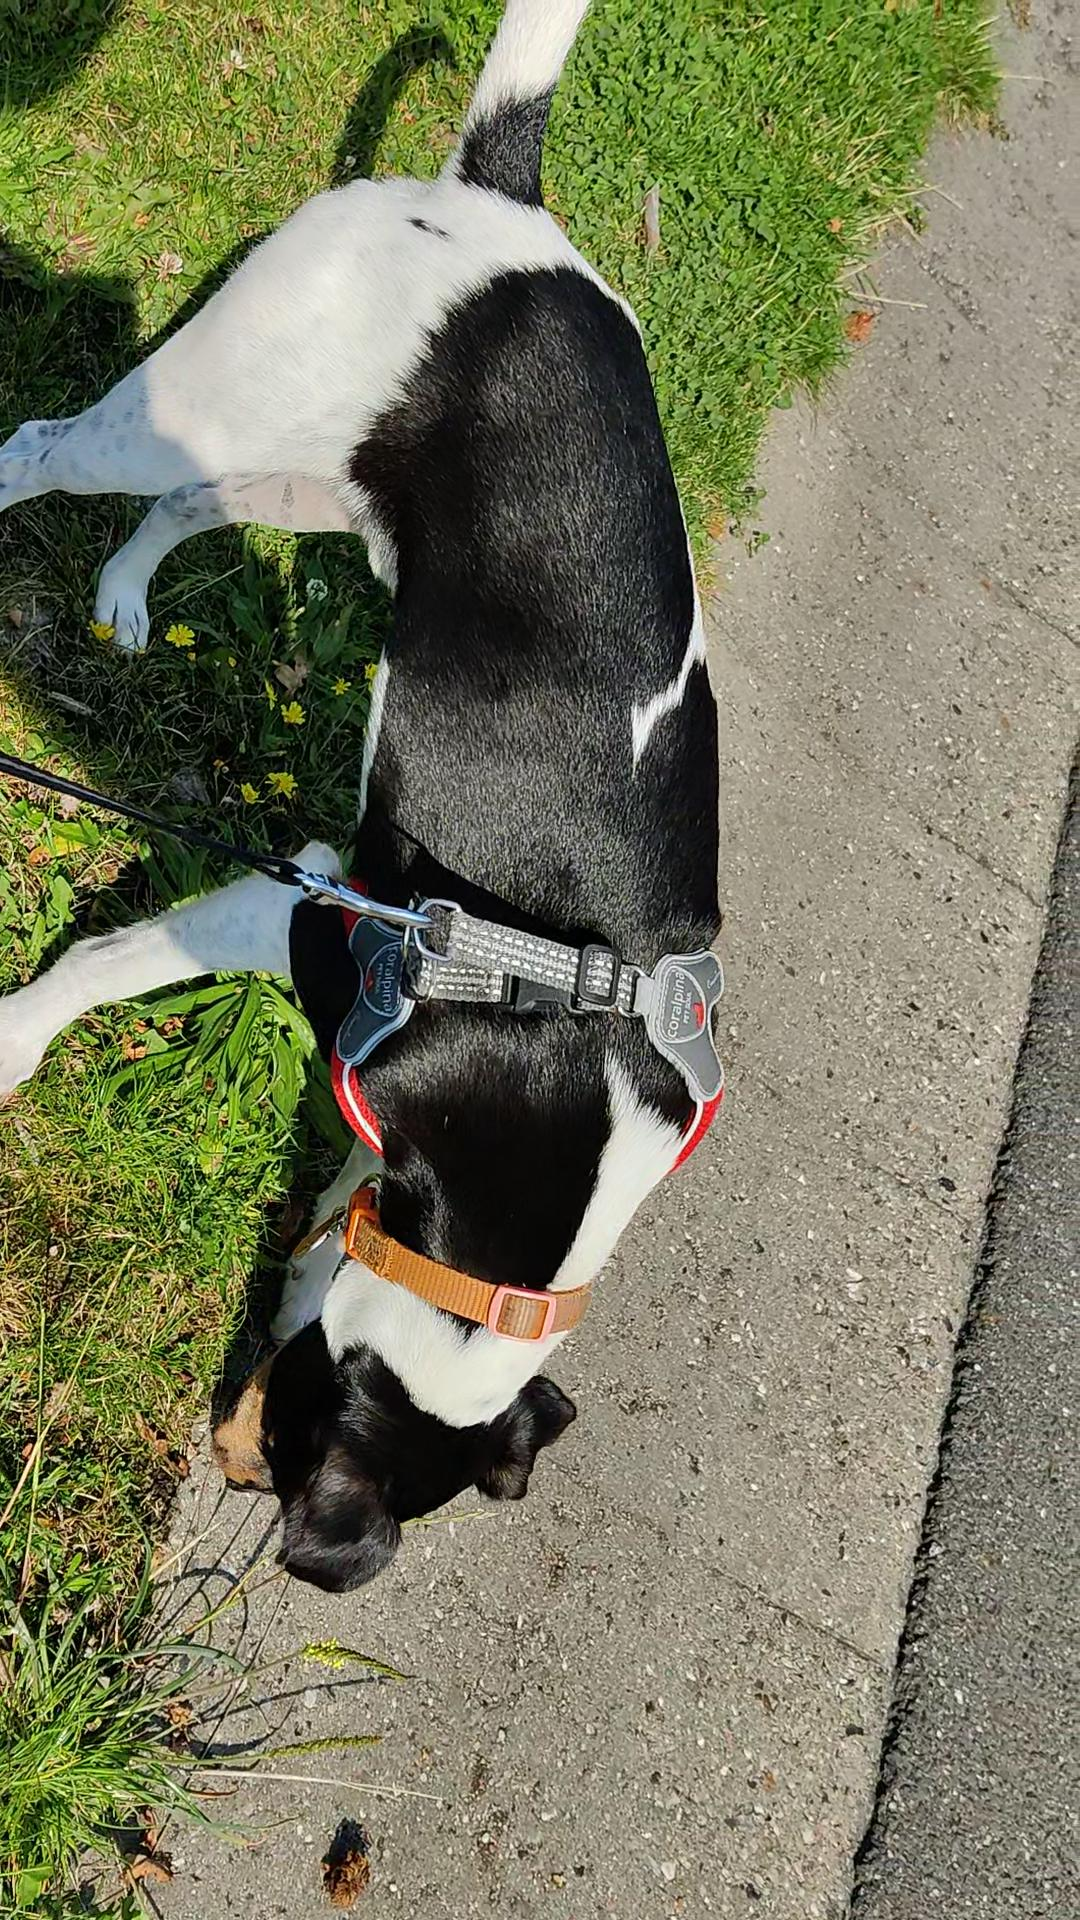Dog: (0, 0, 782, 1592)
